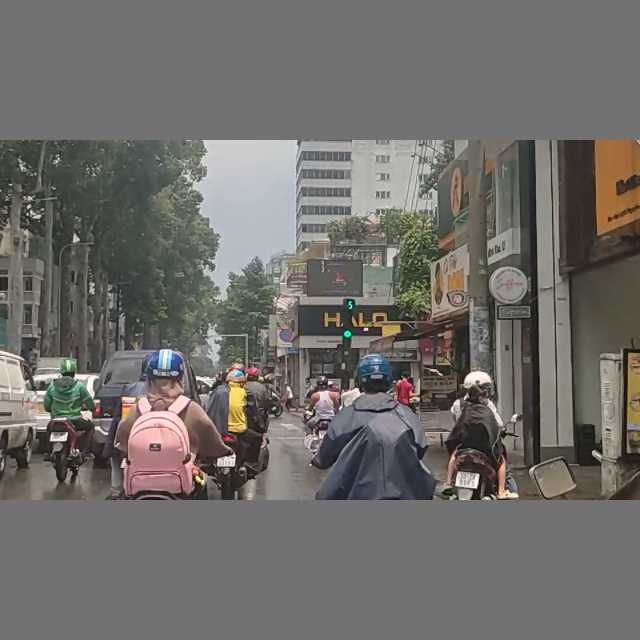P.131a: (278, 328, 293, 343)
